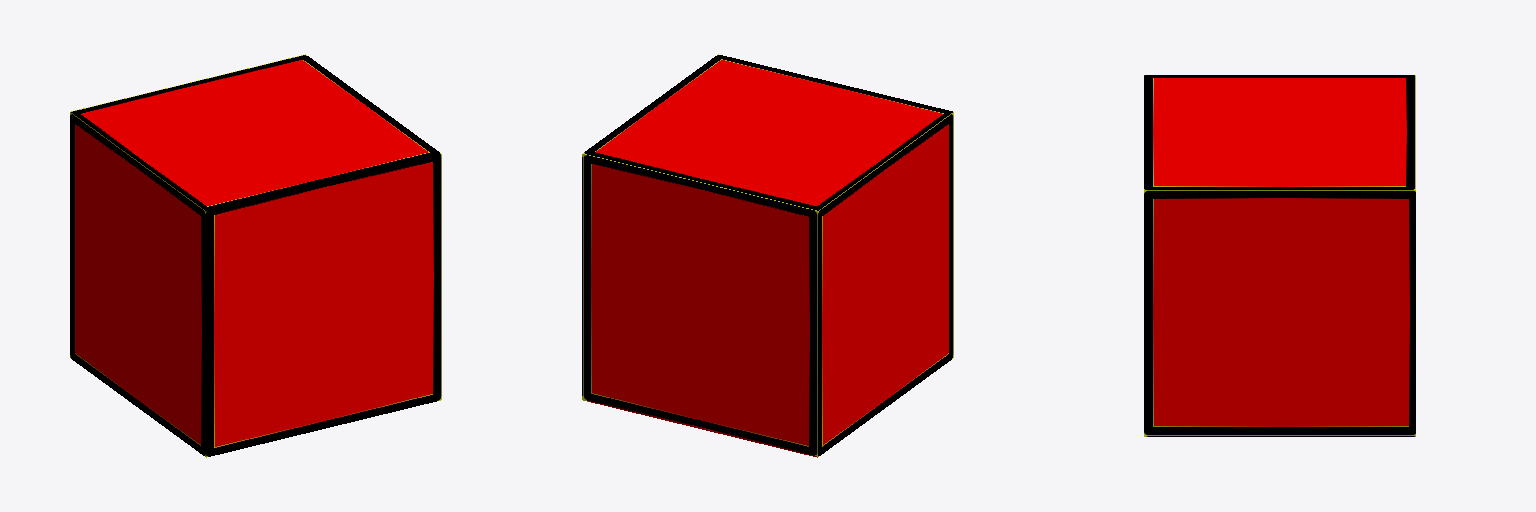
3 views of the same model, side by side, from view 1: azimuth 30°, elevation 25°; view 2: azimuth 150°, elevation 25°; view 3: azimuth 270°, elevation 25° (orthographic).
Visible parts, largest first — view 1: Cube; view 2: Cube; view 3: Cube.
Boxes of the visible parts, x1,y1,x2,y2 form: Cube: [70, 54, 441, 457]; Cube: [582, 54, 953, 457]; Cube: [1144, 75, 1415, 436].
Bounding box in the file's own units: 1 × 1 × 1.
1 materials, 1 textured.